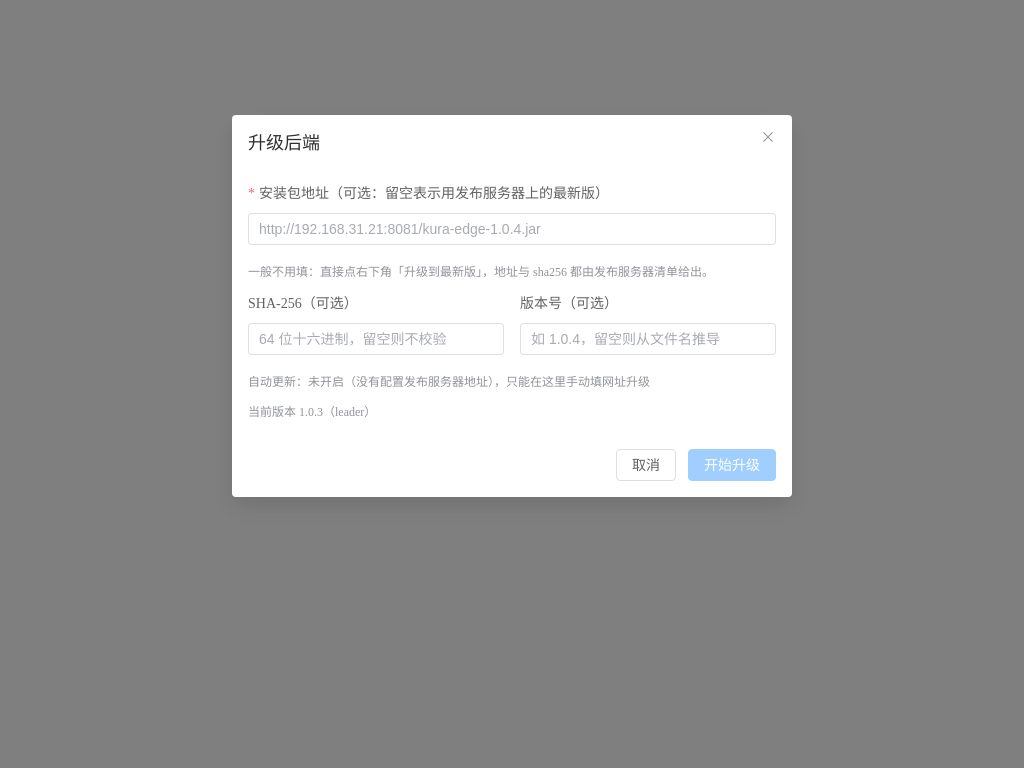
Test: UpgradeDialog › givenBackendRejectionThenShowsServerMessage
The image size is (1024, 768).
Type "http://192.168.31.40:8000/kura-edge-1.0.4.jar" into the field labelled "安装包地址（可选：留空表示用发布服务器上的最新版）" at (512, 229), box [259,214,765,244]
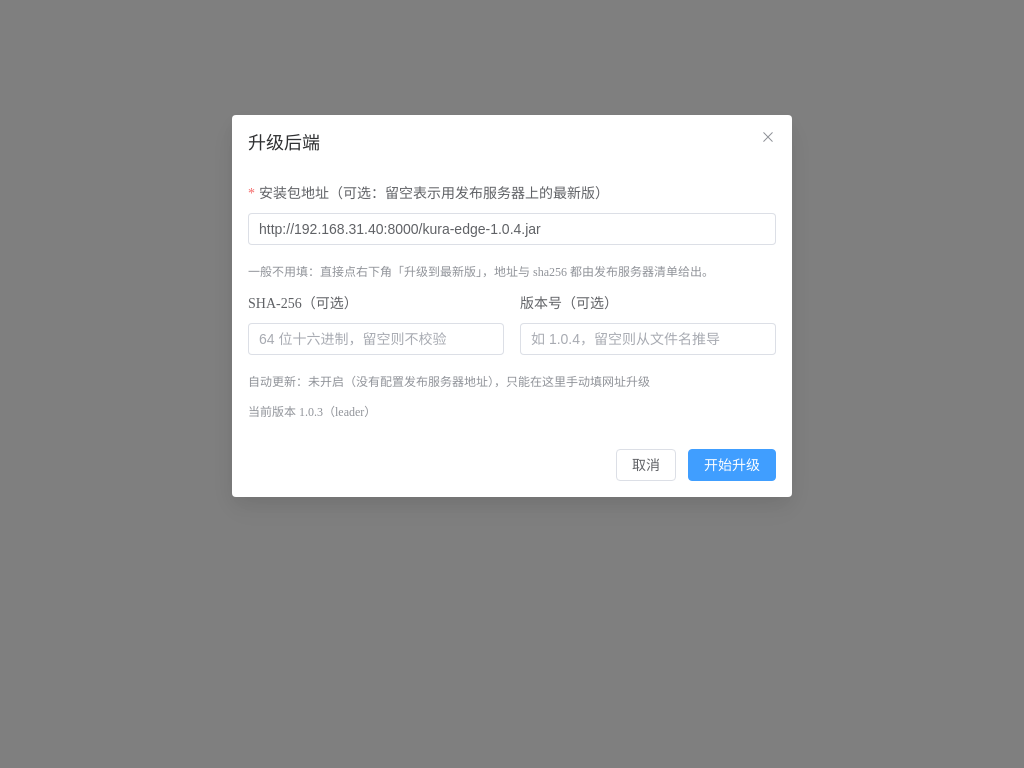
Click the button "开始升级" at (732, 465), box [688,449,776,481]
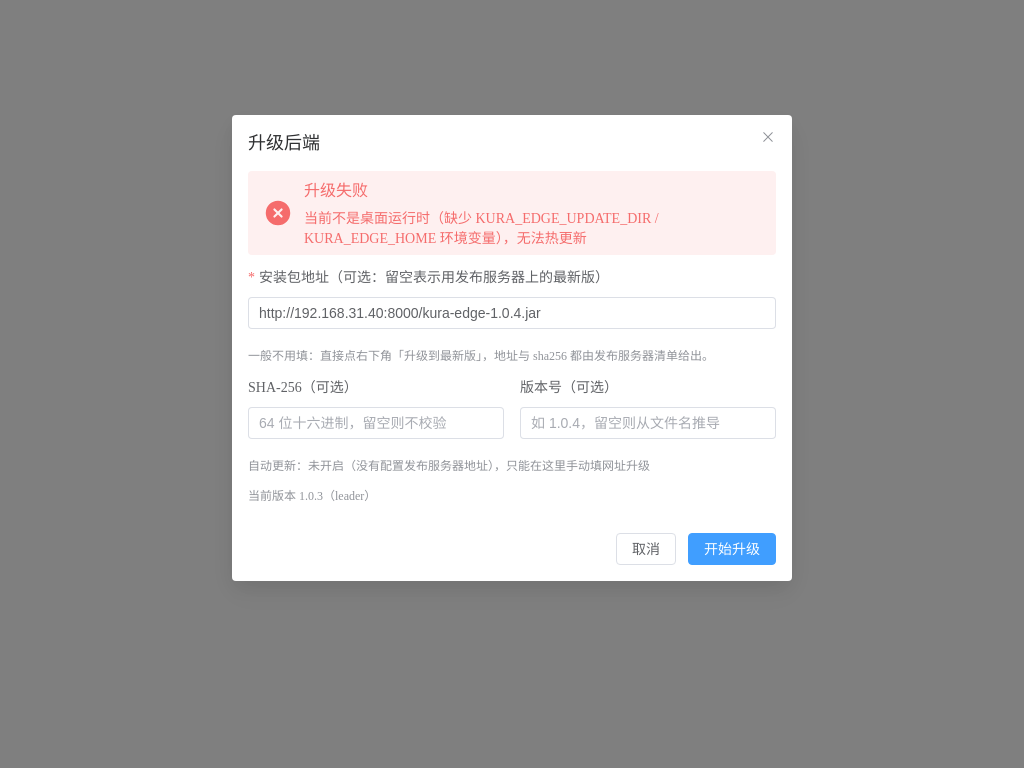
Expected: the text "无法热更新" is shown, [304,211,659,246]
